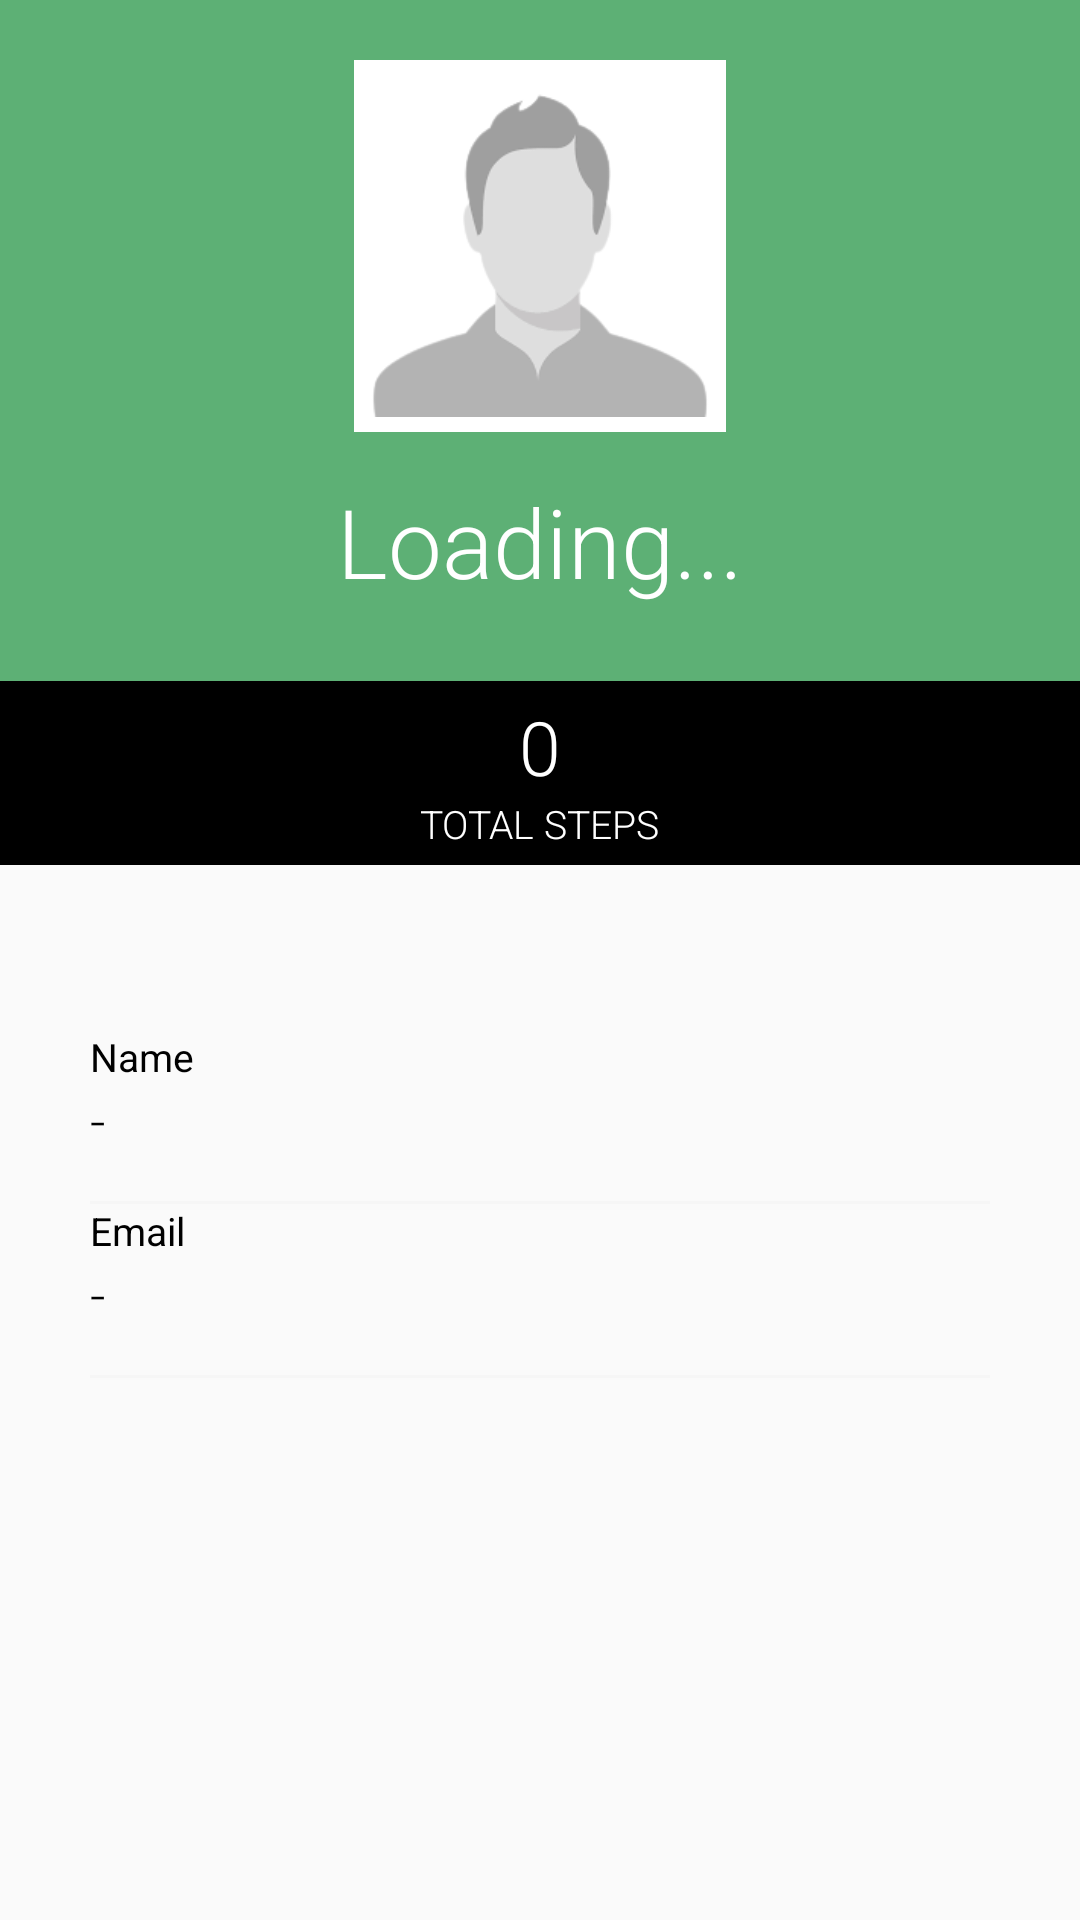

Point at icon controls on the screen. Image size 1080 x 1920, points as point (x, y).
profilepic: point (540, 256)
